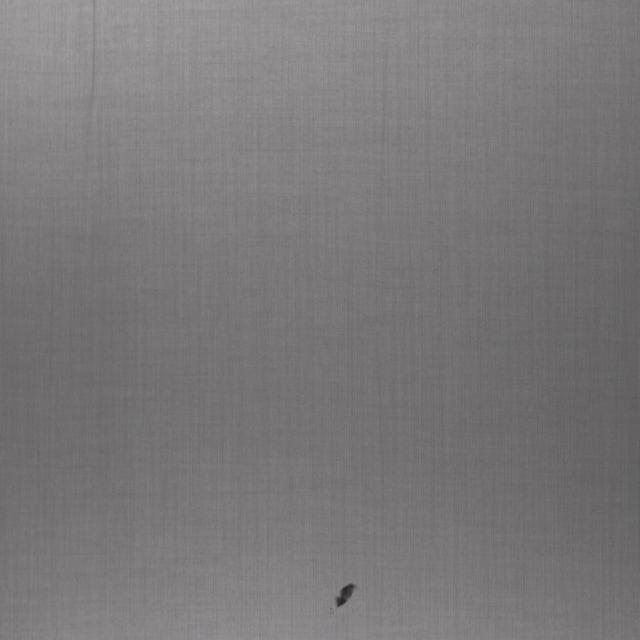dirty: (336, 580, 358, 610)
